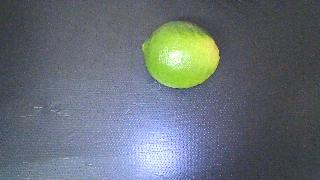EXPORTACION: (142, 21, 220, 88)
